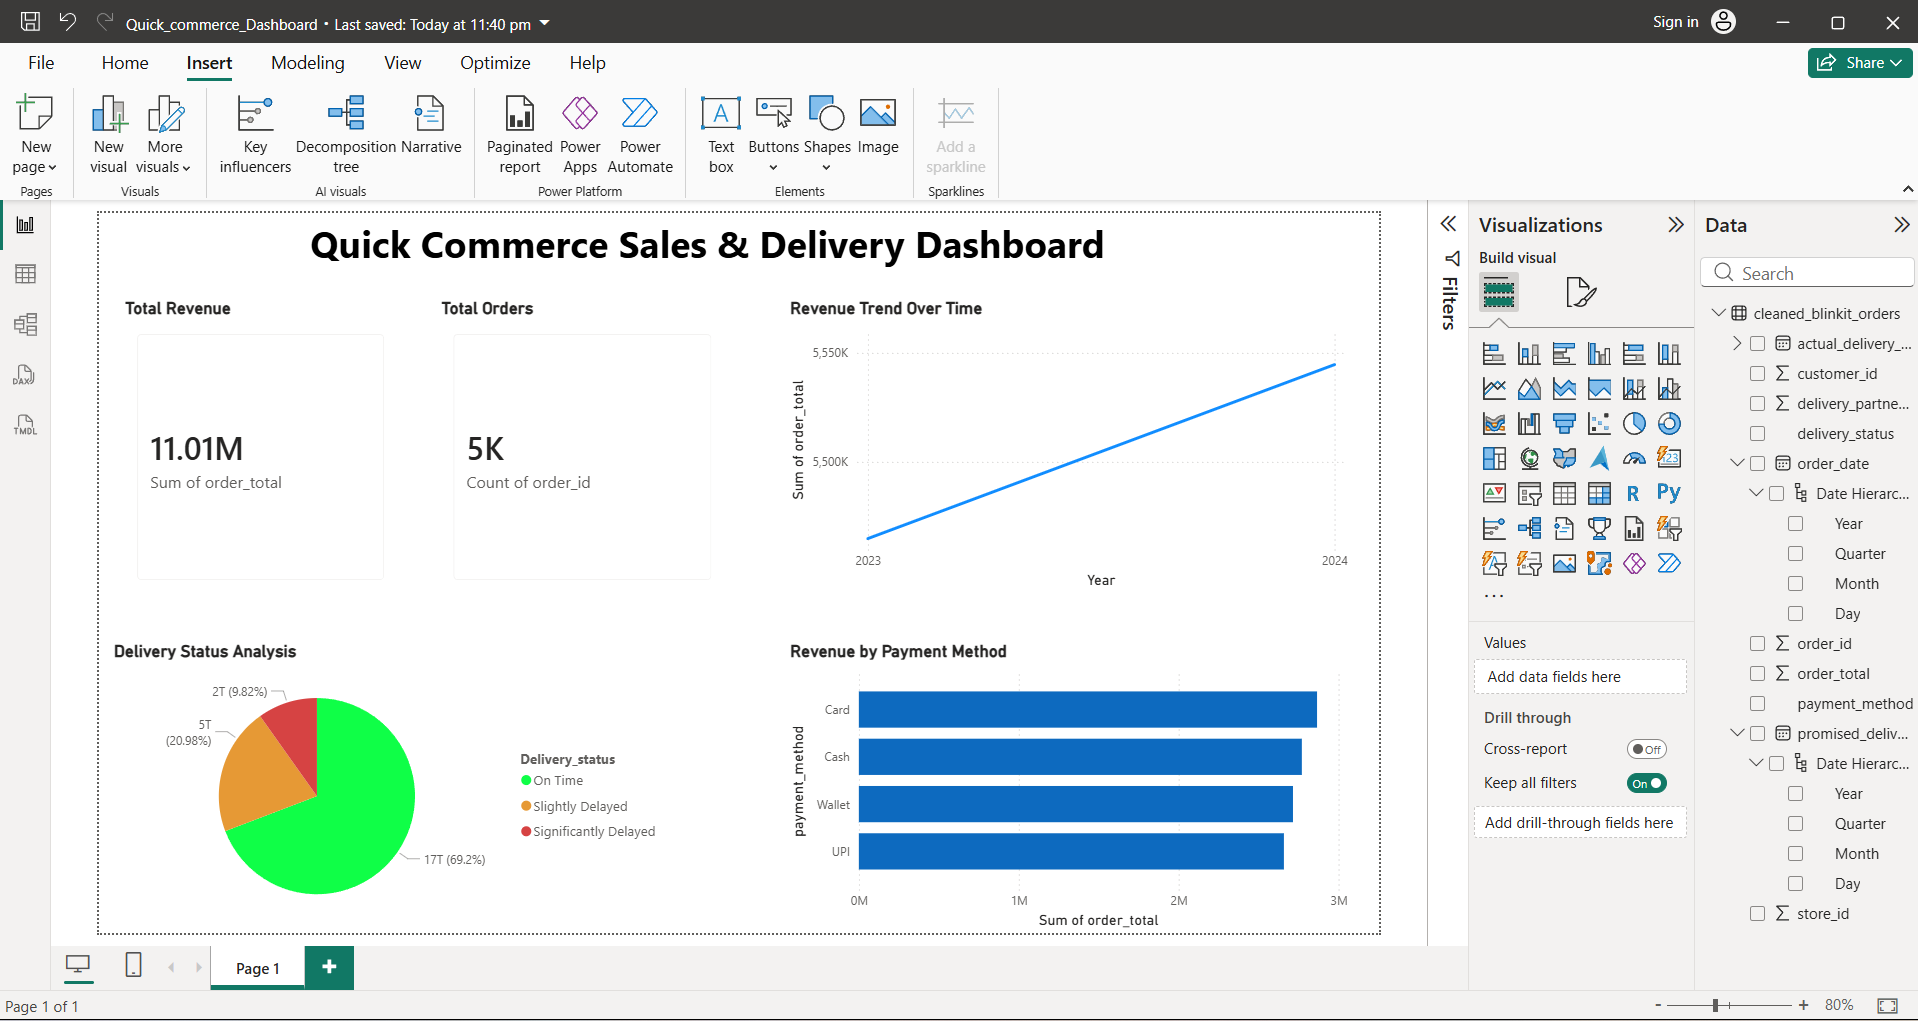

What the dashboard file says about the page in this screenshot:
{"tool":"powerbi","page":{"name":"Page 1","canvas":[1280,720],"ordinal":0},"visuals":[{"type":"cardVisual","title":"Total Revenue","fields":{"Data":["Sum(cleaned_blinkit_orders.order_total)"]},"box":[21.2,85,281.2,300],"z":0},{"type":"cardVisual","title":"Total Orders","fields":{"Data":["CountNonNull(cleaned_blinkit_orders.order_id)"]},"box":[337.5,85,292.5,300],"z":2000},{"type":"pieChart","title":"Delivery Status Analysis","fields":{"Category":["cleaned_blinkit_orders.delivery_status"],"Y":["Sum(cleaned_blinkit_orders.order_id)"]},"box":[10,427.5,561.2,292.5],"z":3000},{"type":"clusteredBarChart","title":"Revenue by Payment Method","fields":{"Category":["cleaned_blinkit_orders.payment_method"],"Y":["Sum(cleaned_blinkit_orders.order_total)"]},"box":[686.2,427.5,567.5,292.5],"z":3001},{"type":"lineChart","title":"Revenue Trend Over Time","fields":{"Category":["cleaned_blinkit_orders.order_date.Variation.Date Hierarchy.Year","cleaned_blinkit_orders.order_date.Variation.Date Hierarchy.Quarter","cleaned_blinkit_orders.order_date.Variation.Date Hierarchy.Month","cleaned_blinkit_orders.order_date.Variation.Date Hierarchy.Day"],"Y":["Sum(cleaned_blinkit_orders.order_total)"]},"box":[686.2,85,567.5,295],"z":3002},{"type":"textbox","box":[206.2,0,867.5,76.2],"z":3003}]}

Visuals, with their boxes on the page's 1280x720 design canvas (x1, y1, x2, y2). These are canvas units, not pixel positions in the 1918x1021 screenshot, which may show the page scaled, cropped or inside an application window:
"Total Revenue" cardVisual: 21, 85, 302, 385
"Total Orders" cardVisual: 338, 85, 630, 385
"Delivery Status Analysis" pieChart: 10, 428, 571, 720
"Revenue by Payment Method" clusteredBarChart: 686, 428, 1254, 720
"Revenue Trend Over Time" lineChart: 686, 85, 1254, 380
textbox: 206, 0, 1074, 76
